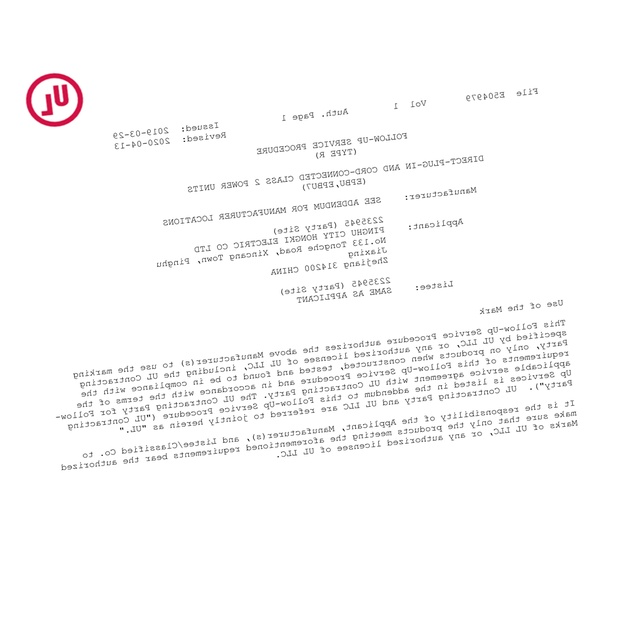ul: (26, 70, 82, 131)
